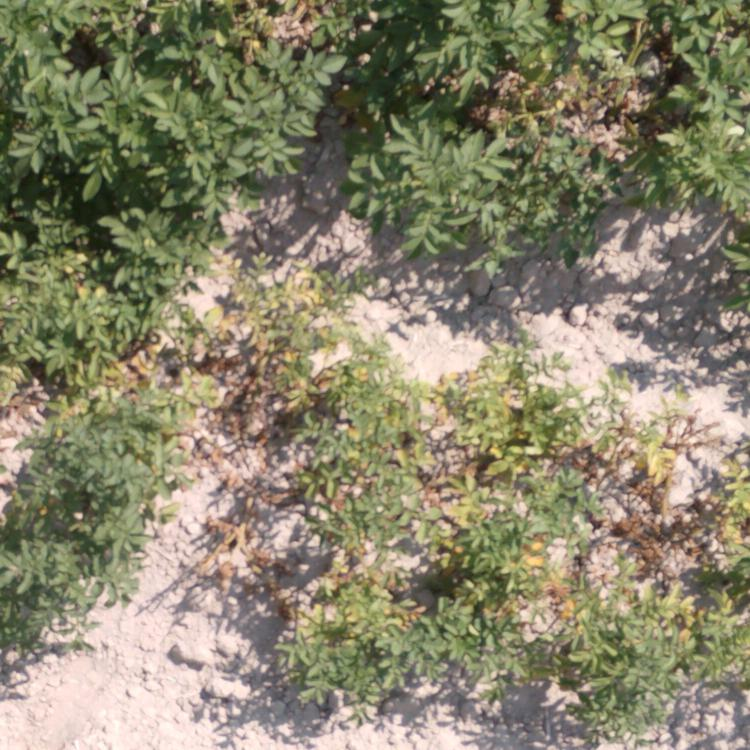healthy: (15, 1, 189, 199), (358, 7, 503, 231), (12, 418, 166, 607), (666, 12, 748, 235), (206, 42, 306, 195), (520, 138, 632, 253), (5, 214, 147, 294), (514, 2, 656, 58)
stressed: (553, 571, 749, 741), (1, 282, 180, 413), (580, 403, 741, 539), (273, 556, 416, 700), (438, 495, 533, 691), (441, 341, 568, 486), (190, 283, 320, 413), (337, 378, 427, 545)
